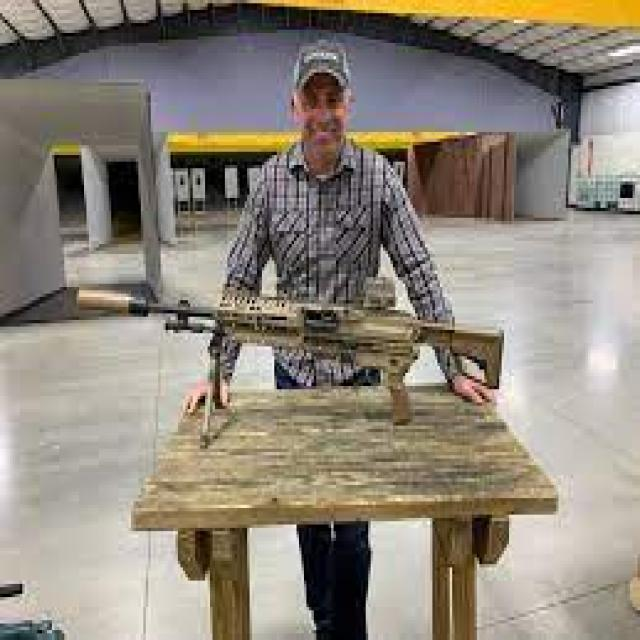weapon: (75, 276, 508, 428)
